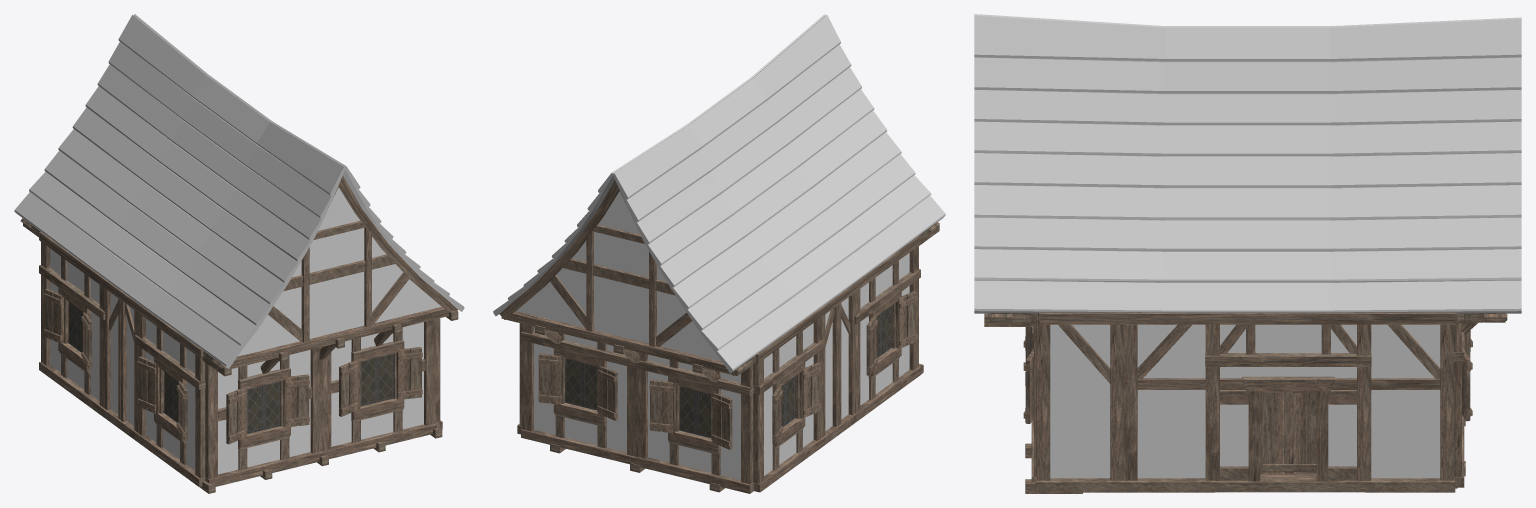
The model's file is House_1Floor_1A2.fbx.
The picture shows the model from 3 angles, left to right: view 1: azimuth 30°, elevation 25°; view 2: azimuth 150°, elevation 25°; view 3: azimuth 270°, elevation 25°; orthographic projection. The views are drawn at different scales.
Parts seen in each view (by area): view 1: House_1Floor_1A2, Plane.595, Plane.596, Plane.598, Plane.597; view 2: House_1Floor_1A2, Plane.583, Plane.584, Plane.597, Plane.598; view 3: House_1Floor_1A2, Cube.3348.
Part boxes in pixels (bbox=[...]): House_1Floor_1A2: bbox=[14, 14, 464, 493]; Plane.595: bbox=[247, 381, 280, 433]; Plane.596: bbox=[361, 353, 393, 406]; Plane.598: bbox=[68, 302, 83, 352]; Plane.597: bbox=[164, 372, 178, 422]; House_1Floor_1A2: bbox=[493, 14, 945, 493]; Plane.583: bbox=[679, 386, 711, 437]; Plane.584: bbox=[565, 358, 597, 410]; Plane.597: bbox=[876, 306, 891, 357]; Plane.598: bbox=[781, 376, 795, 426]; House_1Floor_1A2: bbox=[974, 14, 1521, 493]; Cube.3348: bbox=[1260, 391, 1316, 474].
Bounding box in the file's own units: 961 × 1173 × 1422.
